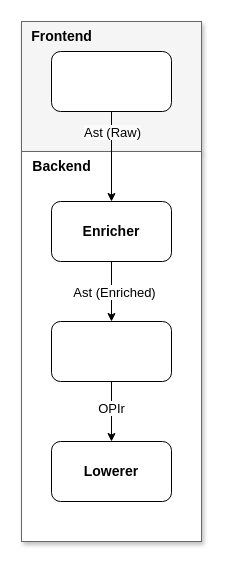
The diagram is 225 pixels wide and 566 high, and some of its shapes have lost their labels. The shapes that lost their labels are listed below. From the top down, each one's centre as x and y in pixels, then its label:
the point at 111,81: Parser
the point at 111,351: Planner
